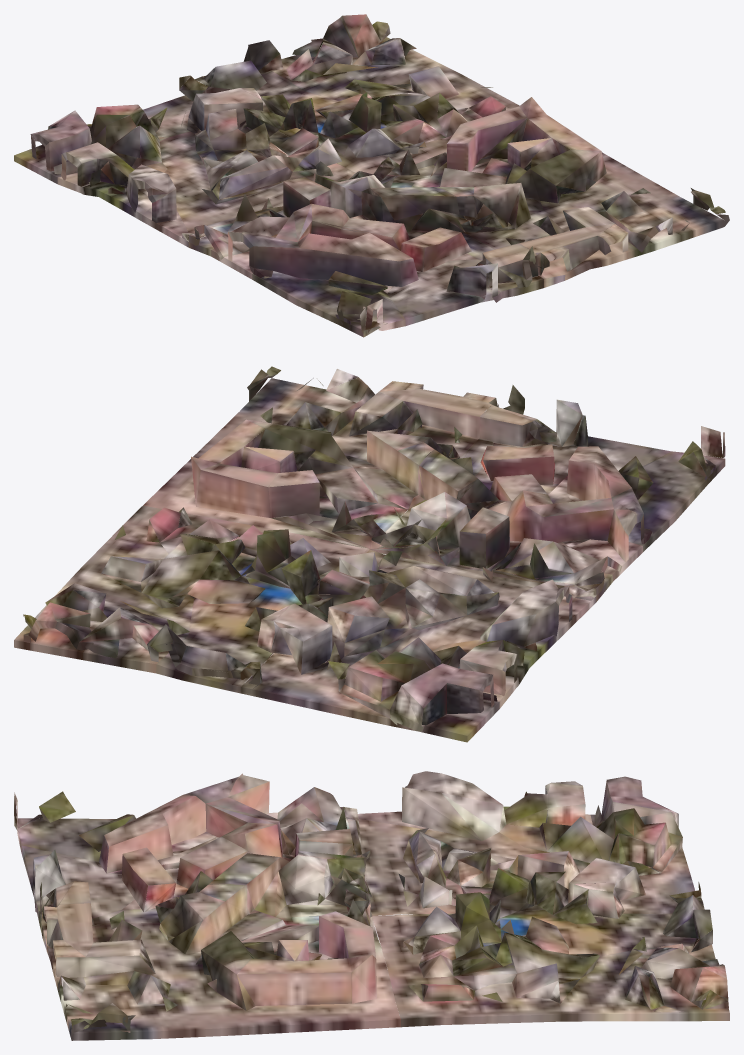
3 renders of one model, top to bottom at view 1: azimuth 30°, elevation 25°; view 2: azimuth 150°, elevation 25°; view 3: azimuth 270°, elevation 25°, orthographic. The views are drawn at different scales.
Visible parts, largest first — view 1: Mesh_0; view 2: Mesh_0; view 3: Mesh_0.
Boxes of the visible parts, left/top/right/bottom form: Mesh_0: left=14, top=14, right=729, bottom=337; Mesh_0: left=14, top=366, right=725, bottom=742; Mesh_0: left=14, top=771, right=729, bottom=1040.
Size of the model in its own units: 270 by 39.13 by 330.
Materials: 2 (2 with a texture image).
